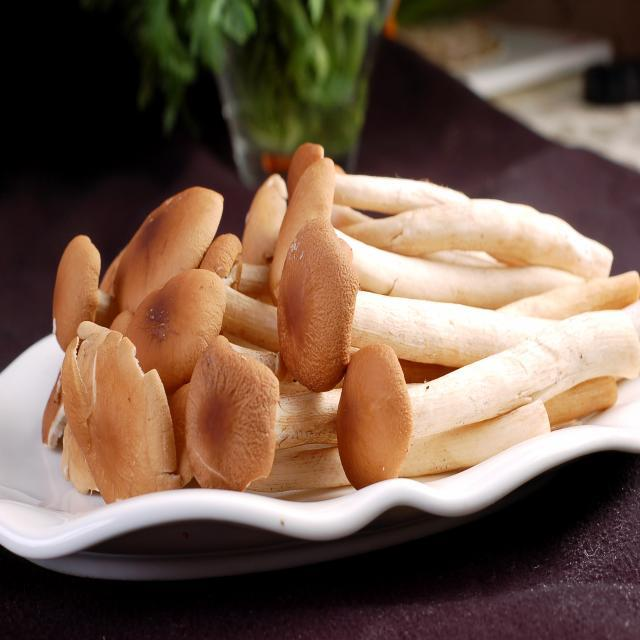Agrocybe aegerita: (51, 148, 640, 487)
